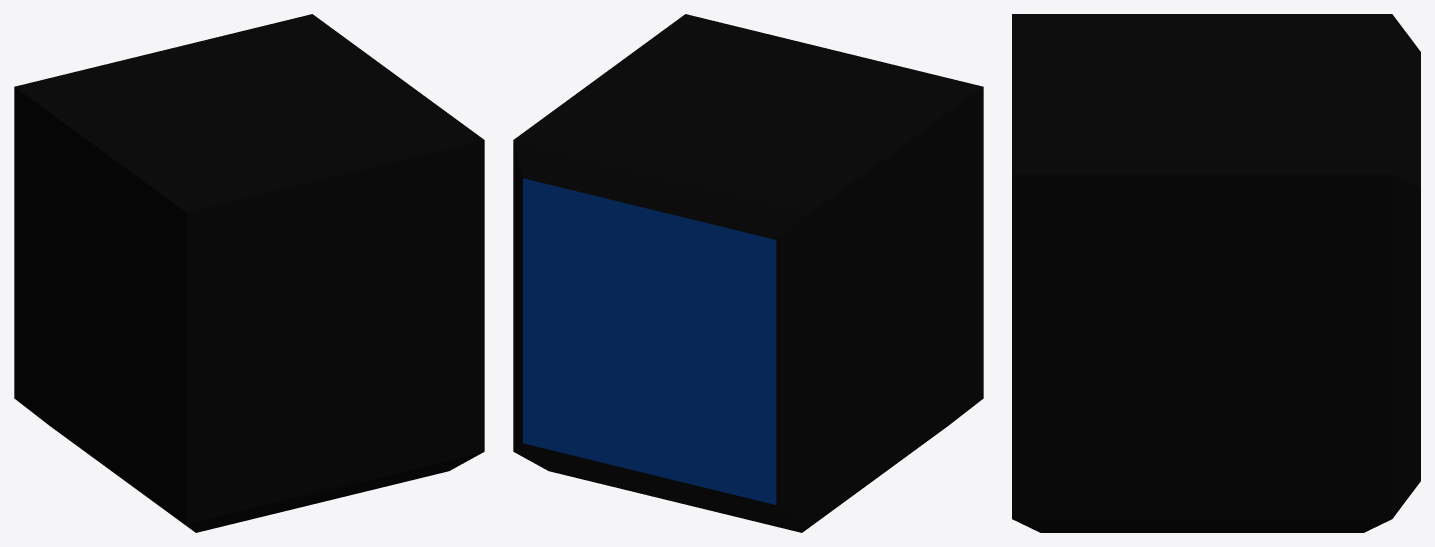
Rendered from rubiks_cube_20.glb.
The picture shows the model from 3 angles, left to right: view 1: azimuth 30°, elevation 25°; view 2: azimuth 150°, elevation 25°; view 3: azimuth 270°, elevation 25°; orthographic projection. The views are drawn at different scales.
Parts seen in each view (by area): view 1: Cube20.001; view 2: Cube20.001; view 3: Cube20.001.
Boxes of the visible parts, bbox=[...] form: Cube20.001: bbox=[14, 14, 484, 532]; Cube20.001: bbox=[513, 14, 983, 532]; Cube20.001: bbox=[1012, 14, 1420, 532].
Size of the model in its own units: 2 by 2.15 by 2.15.
